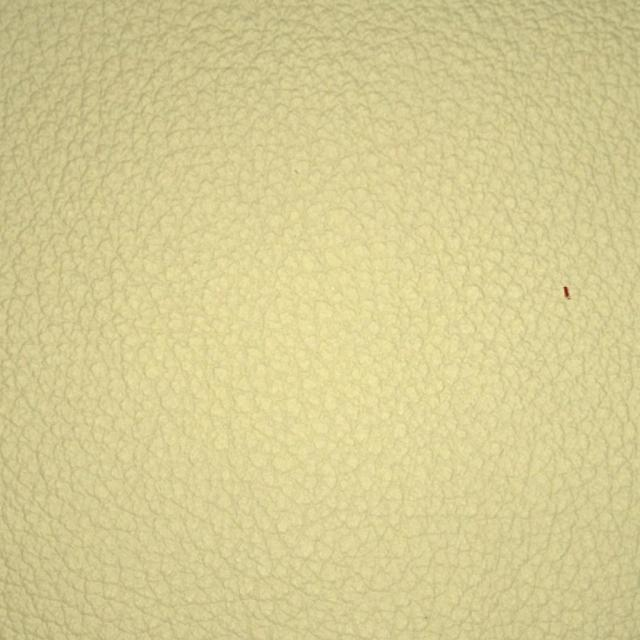Hole: (448, 227, 610, 344)
